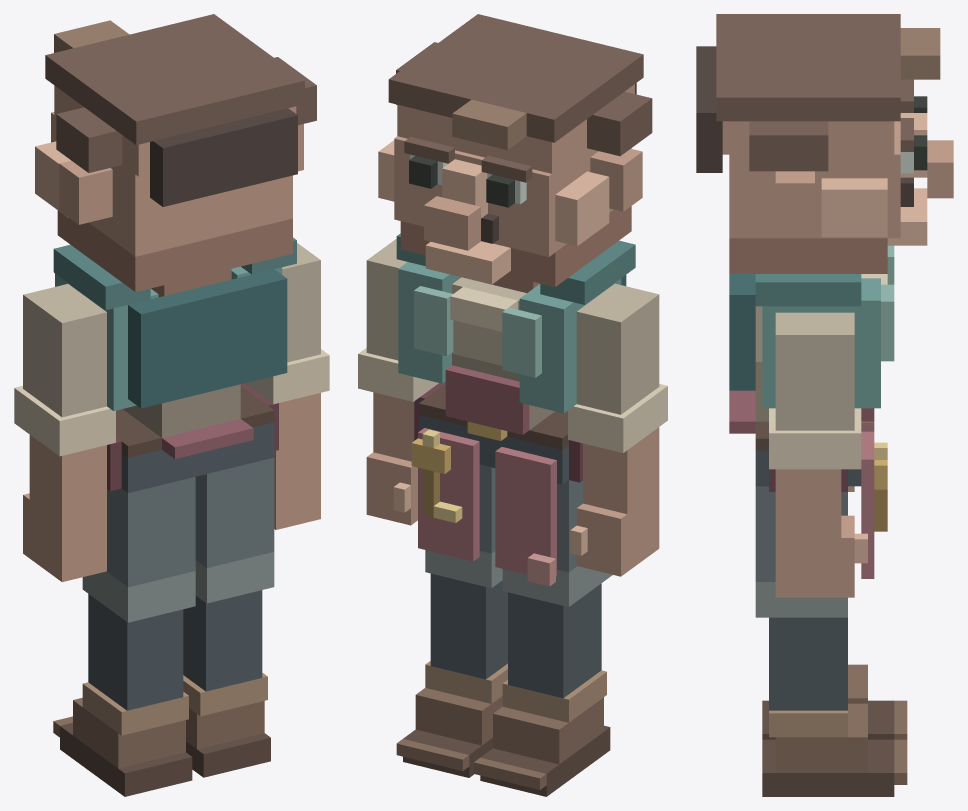
Rendered from voxel_player_scheme_a.glb.
3 views of the same model, side by side, from view 1: azimuth 30°, elevation 25°; view 2: azimuth 150°, elevation 25°; view 3: azimuth 270°, elevation 25° (orthographic). The views are drawn at different scales.
Parts seen in each view (by area): view 1: hair_crown, vest_back, hair_nape, face_core, upper_arm_r, calf_r, thigh_r, jaw, thigh_l, calf_l, forearm_r, hand_r (+28 smaller); view 2: hair_crown, upper_arm_r, calf_r, calf_l, face_core, apron_panel_r, apron_panel_l, vest_front_r, hand_r, forearm_r, cranium, boot_vamp_r (+43 smaller); view 3: hair_crown, upper_arm_l, calf_l, face_core, jaw, vest_front_l, hand_l, forearm_l, boot_sole_l, hair_side_l, cuff_roll_l, boot_vamp_l (+26 smaller).
Part boxes in pixels (left/top/right/bottom): hair_crown: left=45, top=14, right=304, bottom=145; vest_back: left=128, top=269, right=287, bottom=408; hair_nape: left=150, top=108, right=297, bottom=206; face_core: left=51, top=112, right=292, bottom=256; upper_arm_r: left=23, top=284, right=106, bottom=417; calf_r: left=88, top=594, right=183, bottom=710; thigh_r: left=106, top=477, right=195, bottom=587; jaw: left=57, top=210, right=292, bottom=291; thigh_l: left=195, top=457, right=274, bottom=567; calf_l: left=183, top=590, right=262, bottom=691; forearm_r: left=29, top=435, right=106, bottom=523; hand_r: left=23, top=493, right=106, bottom=582; hair_crown: left=388, top=14, right=643, bottom=142; upper_arm_r: left=576, top=283, right=659, bottom=414; calf_r: left=508, top=583, right=601, bottom=698; calf_l: left=430, top=573, right=507, bottom=679; face_core: left=394, top=136, right=631, bottom=256; apron_panel_r: left=495, top=447, right=556, bottom=576; apron_panel_l: left=418, top=428, right=479, bottom=561; vest_front_r: left=519, top=278, right=621, bottom=413; hand_r: left=576, top=491, right=659, bottom=576; forearm_r: left=583, top=427, right=659, bottom=513; cranium: left=397, top=84, right=634, bottom=173; boot_vamp_r: left=493, top=697, right=603, bottom=764; hair_crown: left=716, top=14, right=900, bottom=121; upper_arm_l: left=775, top=312, right=854, bottom=430; calf_l: left=769, top=617, right=847, bottom=710; face_core: left=729, top=121, right=900, bottom=238; jaw: left=729, top=238, right=887, bottom=273; vest_front_l: left=762, top=278, right=880, bottom=408; hand_l: left=775, top=515, right=854, bottom=597; forearm_l: left=775, top=469, right=841, bottom=537; boot_sole_l: left=762, top=739, right=894, bottom=796; hair_side_l: left=749, top=121, right=828, bottom=171; cuff_roll_l: left=769, top=408, right=861, bottom=469; boot_vamp_l: left=775, top=703, right=867, bottom=772.
Size of the model in its own units: 0.75 by 1.84 by 0.6094.
